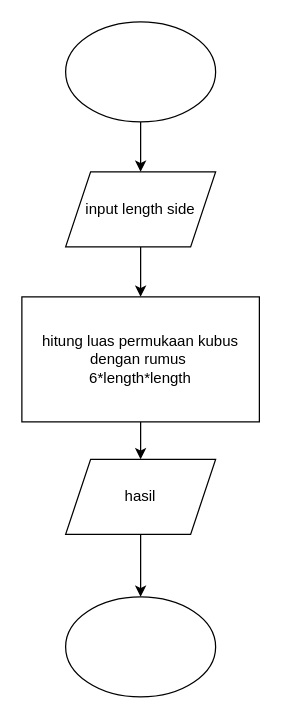
The diagram is 281 pixels wide and 719 high, and some of its shapes have lost their labels. Each missing label, with the box of its shape:
end: (64, 596, 216, 697)
start: (64, 21, 216, 122)
